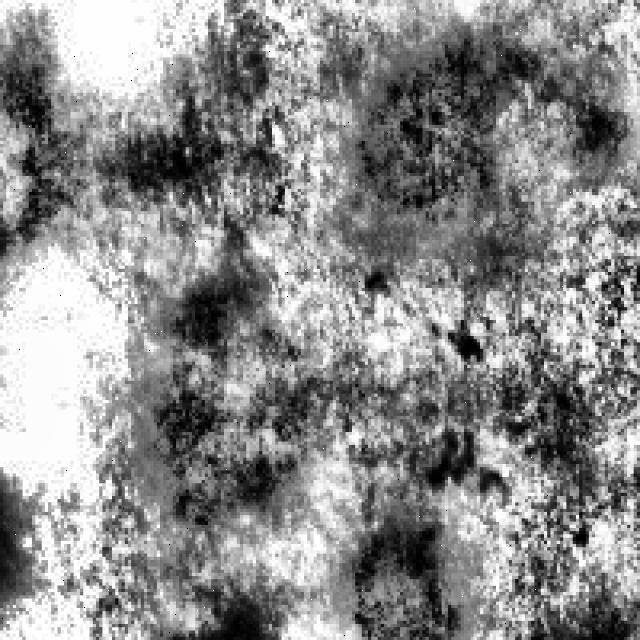Scratches: (364, 12, 630, 230), (3, 29, 240, 240), (144, 272, 317, 525), (340, 496, 470, 630)
